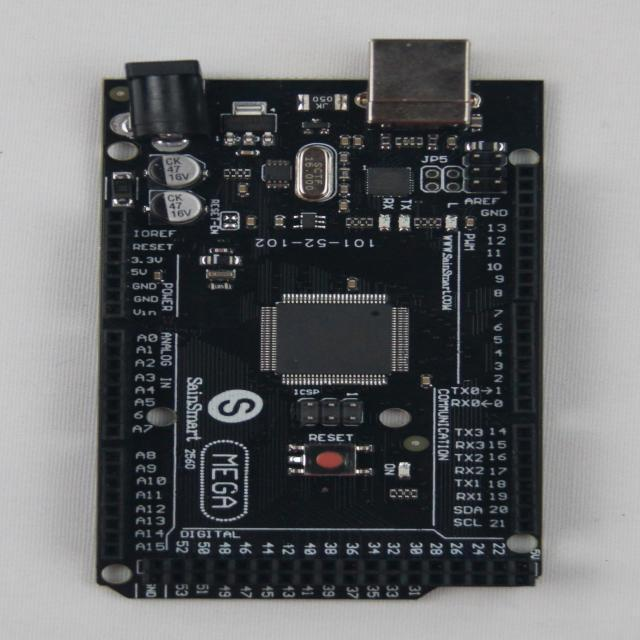Arduino Mega 2560 -Black-: (99, 41, 544, 600)
